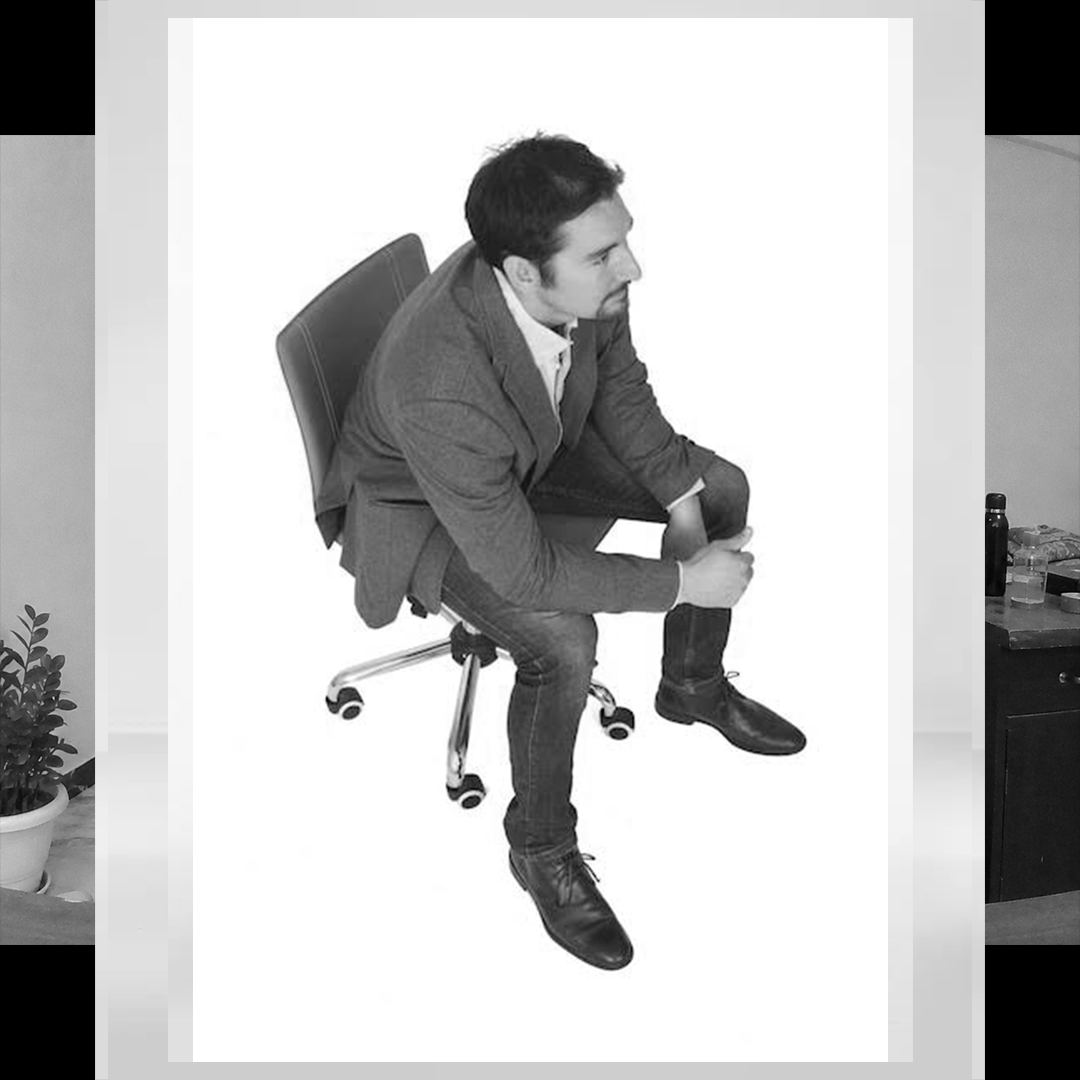distracted: (319, 66, 836, 731)
